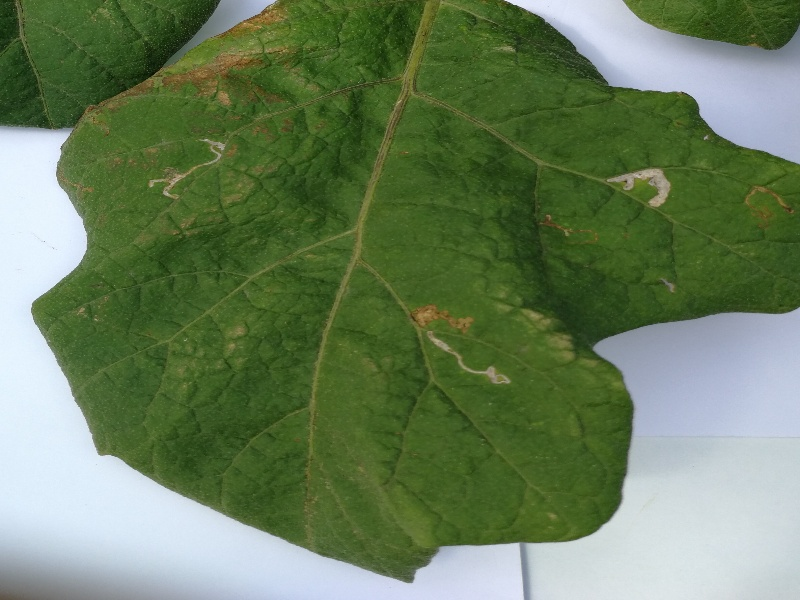leafminer: (415, 324, 517, 393), (140, 132, 228, 211), (535, 203, 609, 268), (602, 156, 684, 213), (737, 171, 792, 238), (404, 295, 481, 335)
